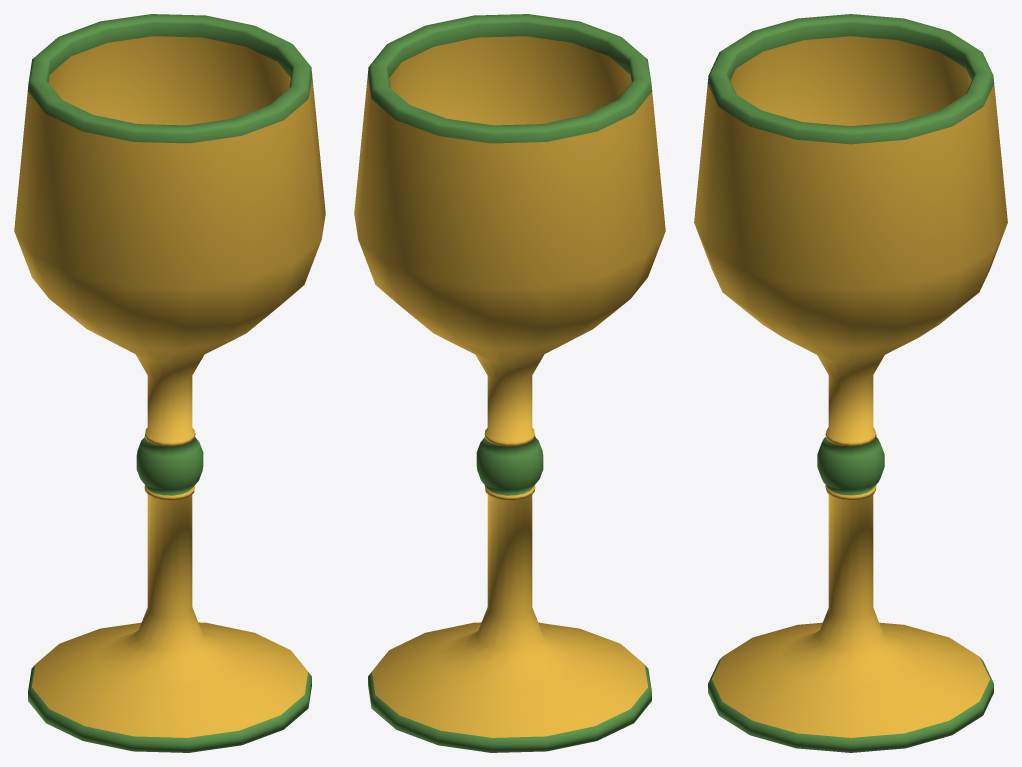
Rendered from PrototypeGoblet.fbx.
3 views of the same model, side by side, from view 1: azimuth 30°, elevation 25°; view 2: azimuth 150°, elevation 25°; view 3: azimuth 270°, elevation 25° (orthographic).
Visible parts, largest first — view 1: Goblet; view 2: Goblet; view 3: Goblet.
Part boxes in pixels (x1,y1,x2,y2): Goblet: (14, 14, 325, 752); Goblet: (354, 14, 665, 752); Goblet: (694, 14, 1007, 752).
Size of the model in its own units: 95.69 by 208 by 95.69.
